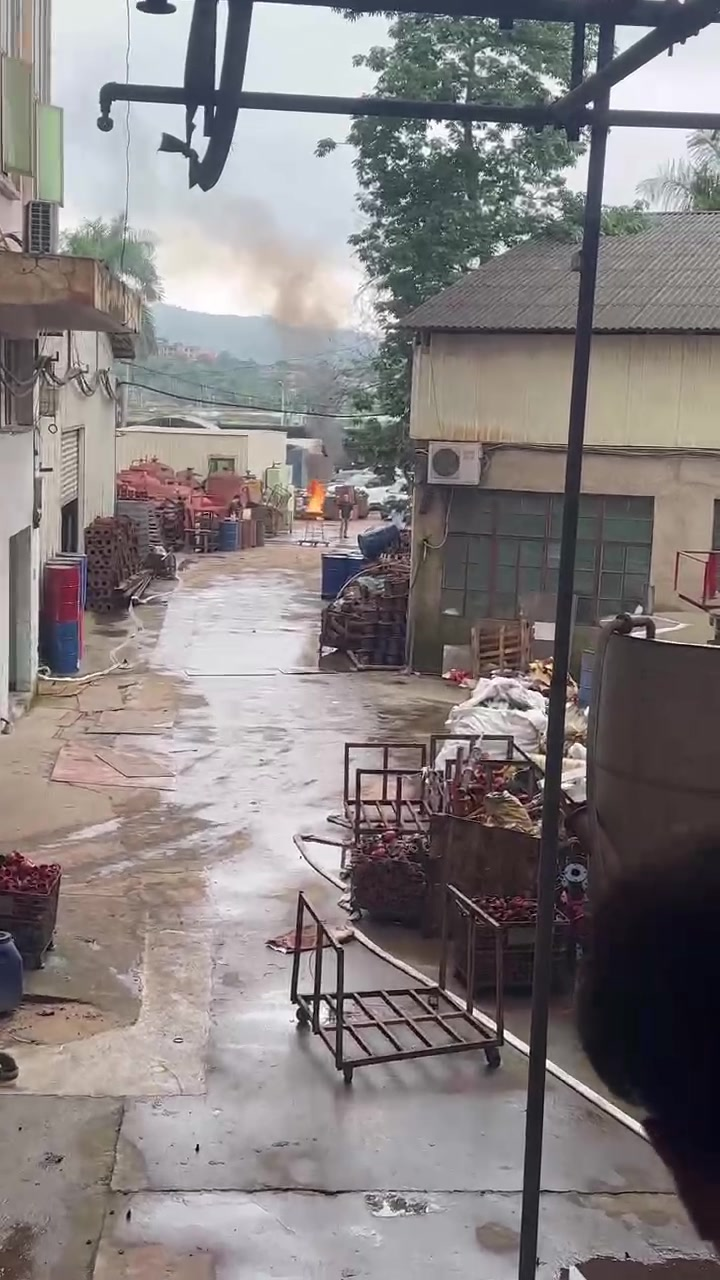fire: (305, 480, 324, 511)
